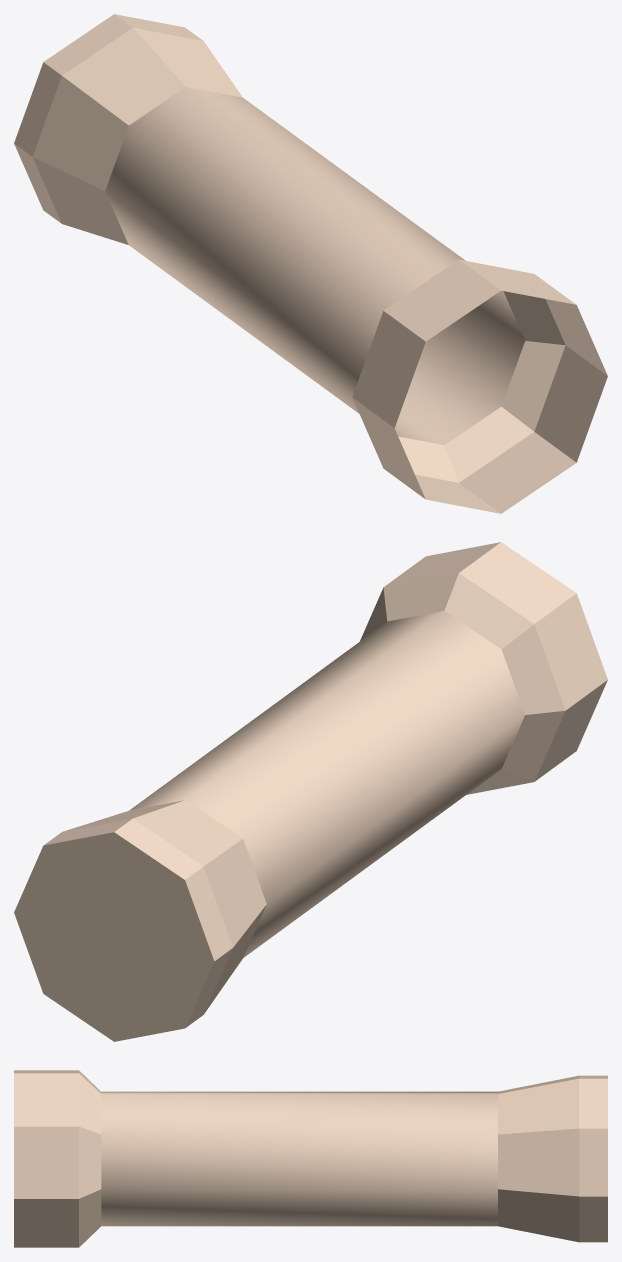
3 renders of one model, top to bottom at view 1: azimuth 30°, elevation 25°; view 2: azimuth 150°, elevation 25°; view 3: azimuth 270°, elevation 25°, orthographic. The views are drawn at different scales.
Parts seen in each view (by area): view 1: Object62; view 2: Object62; view 3: Object62.
Part boxes in pixels (box(x1,y1,x2,y2)): Object62: box(14, 14, 607, 513); Object62: box(14, 542, 607, 1041); Object62: box(14, 1070, 607, 1247).
Size of the model in its own units: 10003 by 10003 by 31428.
